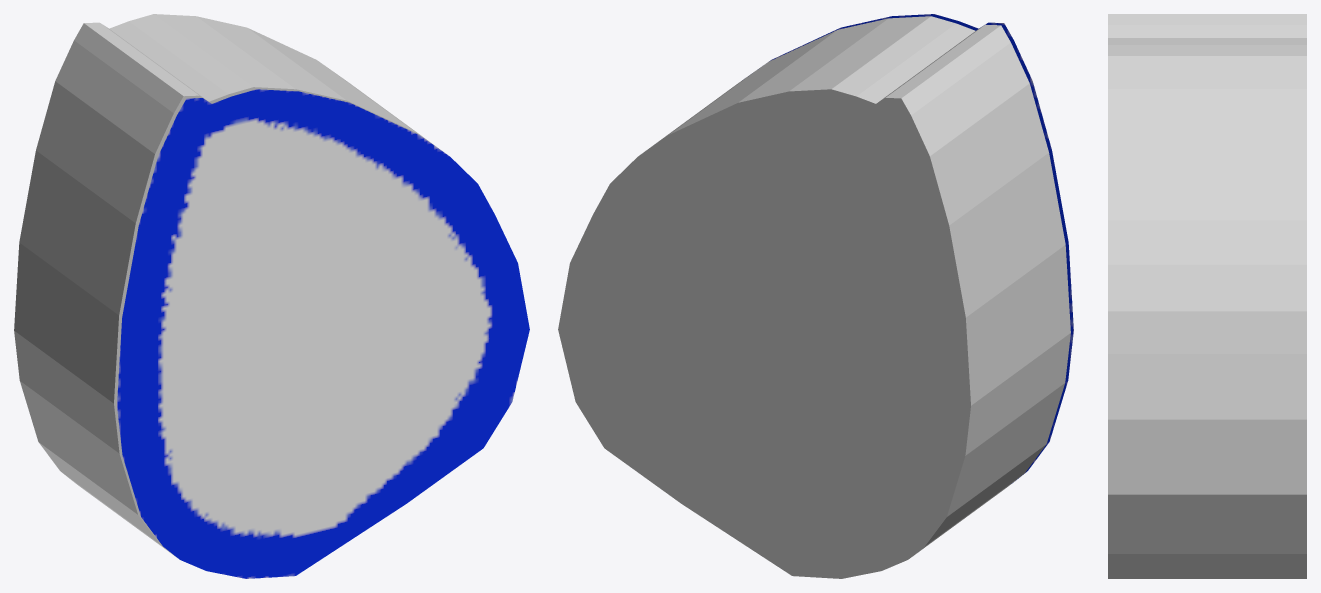
3 views of the same model, side by side, from view 1: azimuth 30°, elevation 25°; view 2: azimuth 150°, elevation 25°; view 3: azimuth 270°, elevation 25° (orthographic).
Visible parts, largest first — view 1: In_1_1, In_1_0; view 2: In_1_0, In_1_1; view 3: In_1_0.
Boxes of the visible parts, box(x1,y1,x2,y2) form: In_1_1: box(117, 89, 529, 578); In_1_0: box(14, 14, 442, 556); In_1_0: box(558, 16, 1070, 578); In_1_1: box(769, 14, 1073, 483); In_1_0: box(1108, 14, 1306, 578).
Bounding box in the file's own units: 1.19 × 1.39 × 0.515.
2 materials, 1 textured.
